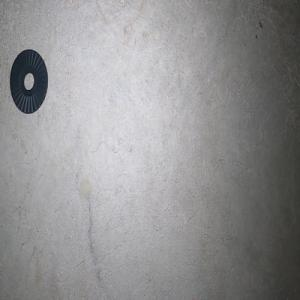Washer: (9, 49, 48, 113)
